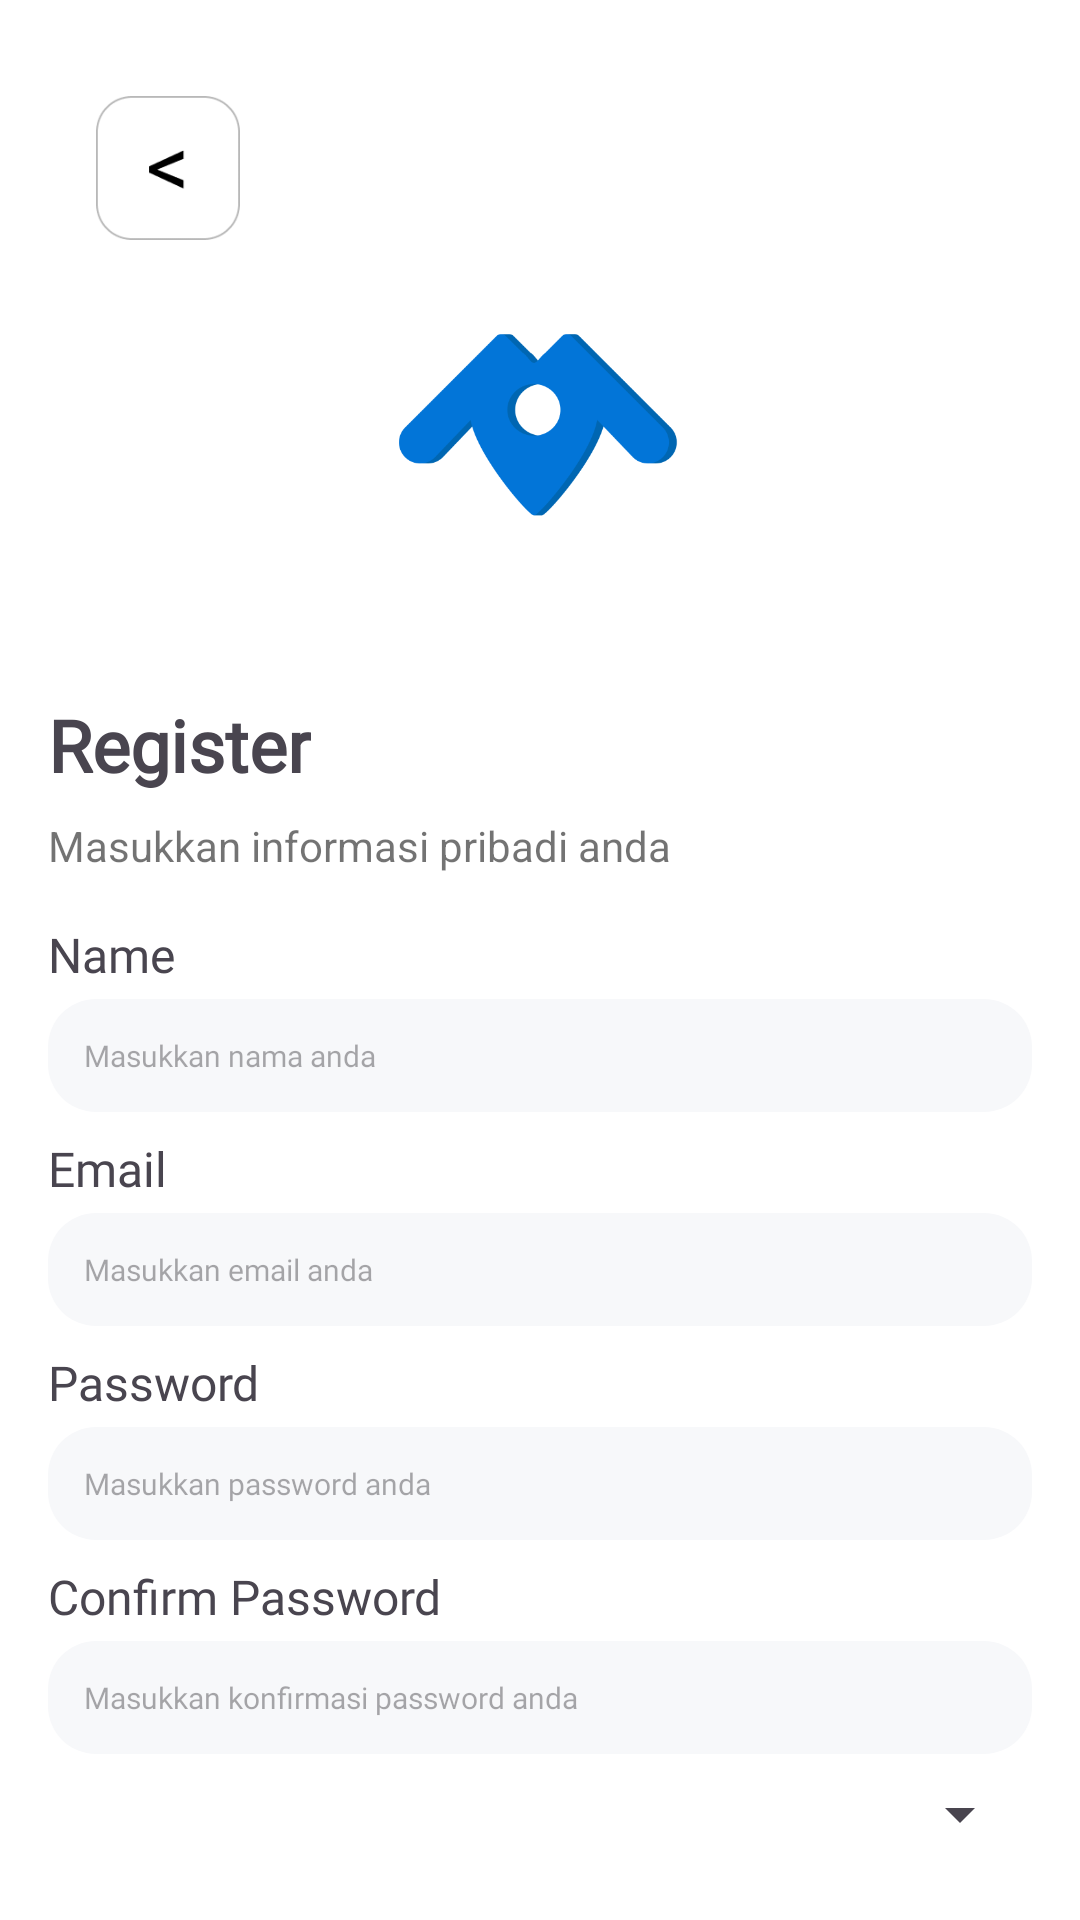

Icon click points for this 1080*1920 phone screenshot, format point (x, y):
Back: point (168, 168)
